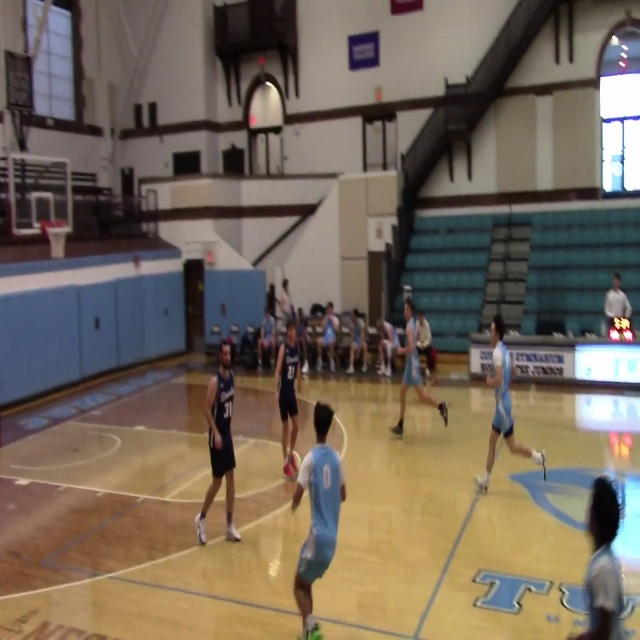Basketball: (283, 450, 301, 479)
